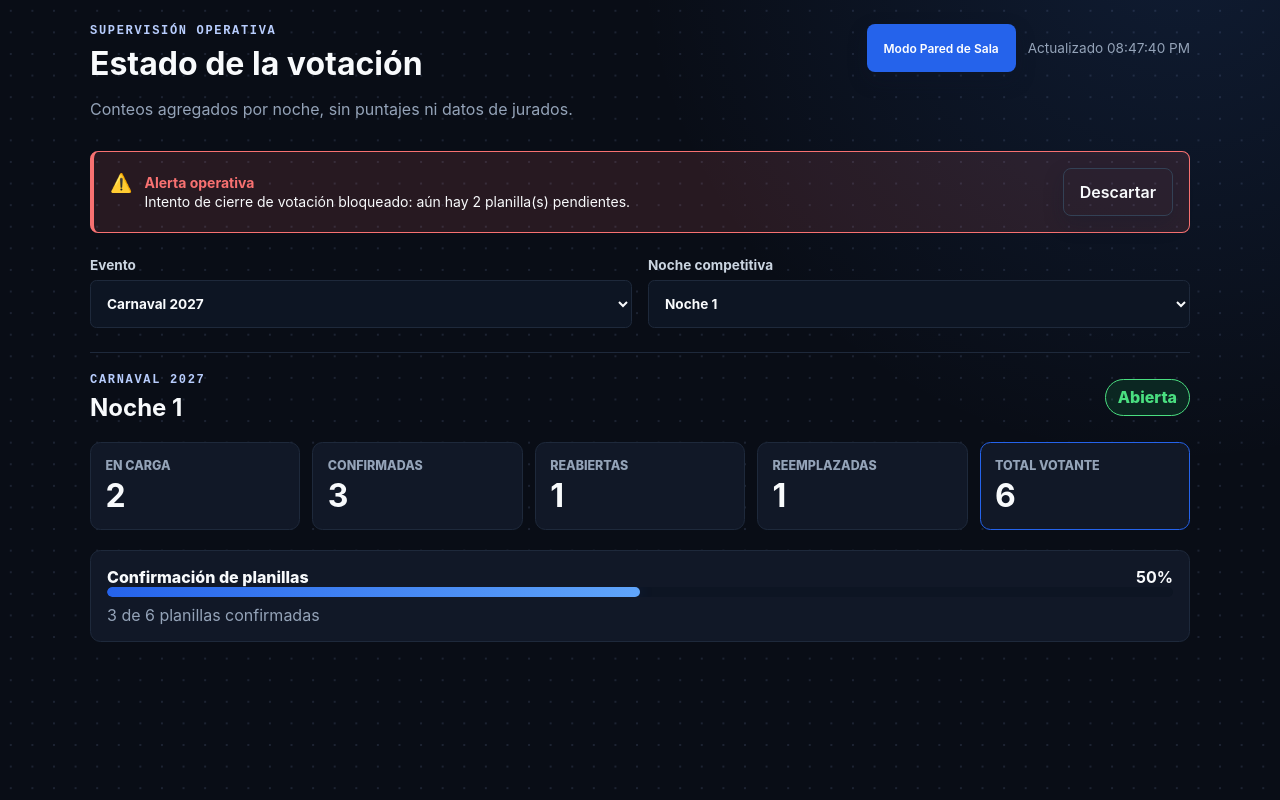
VeedorMonitorPage SSE & Wallboard (Spec 022) › detecta anomalía de intento de cierre incompleto y permite descartar la alerta (RF-194)
Expected: the heading "Noche 1" is shown, [90,393,182,422]
Expected: the text "Intento de cierre de votación bloqueado: aún hay 2 planilla(s) pendientes" is shown, [144,193,630,210]
Descartar alerta
Click the button with aria-label "Descartar alerta" at (1118, 192), box [1063,168,1173,216]
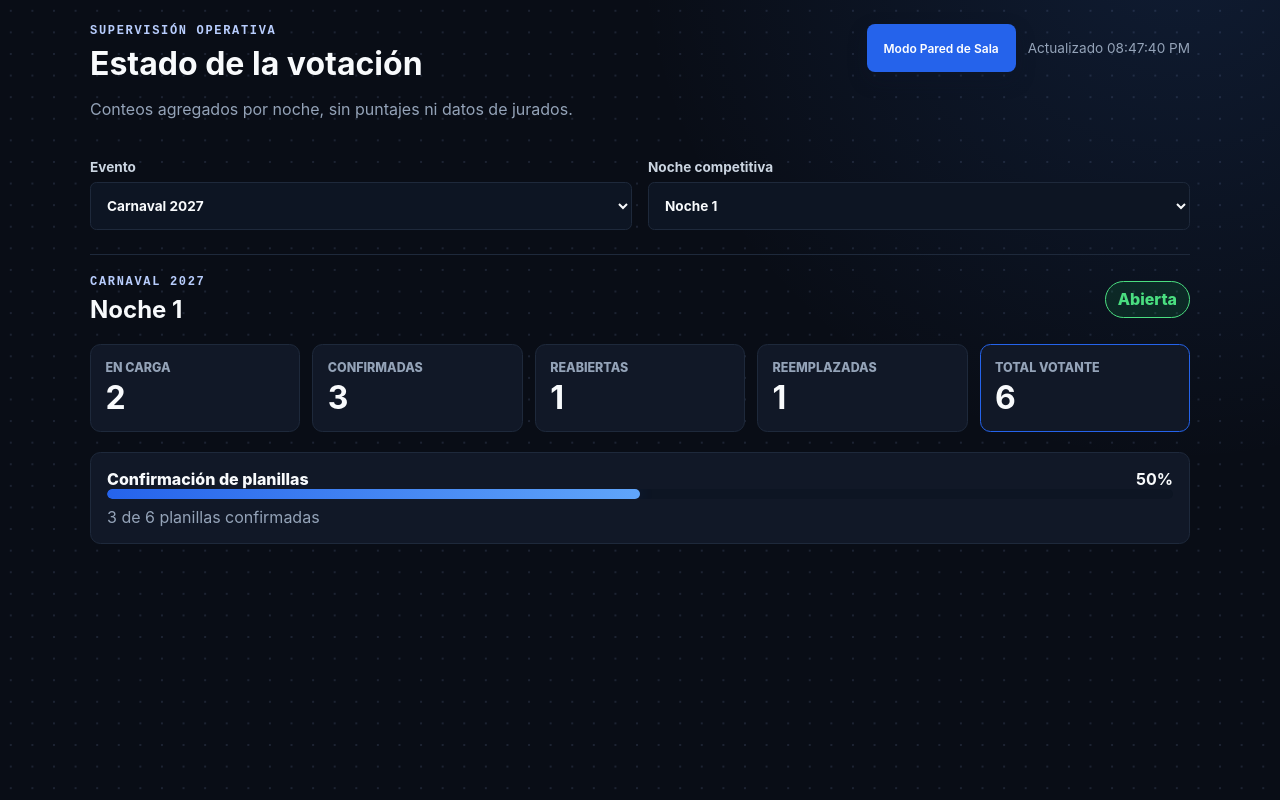
Expected: the text "Intento de cierre de votación bloqueado" is gone
